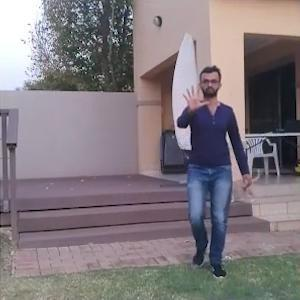follow_hand: (178, 78, 212, 116)
